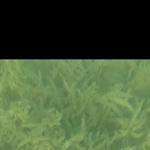dead: (1, 63, 148, 148)
